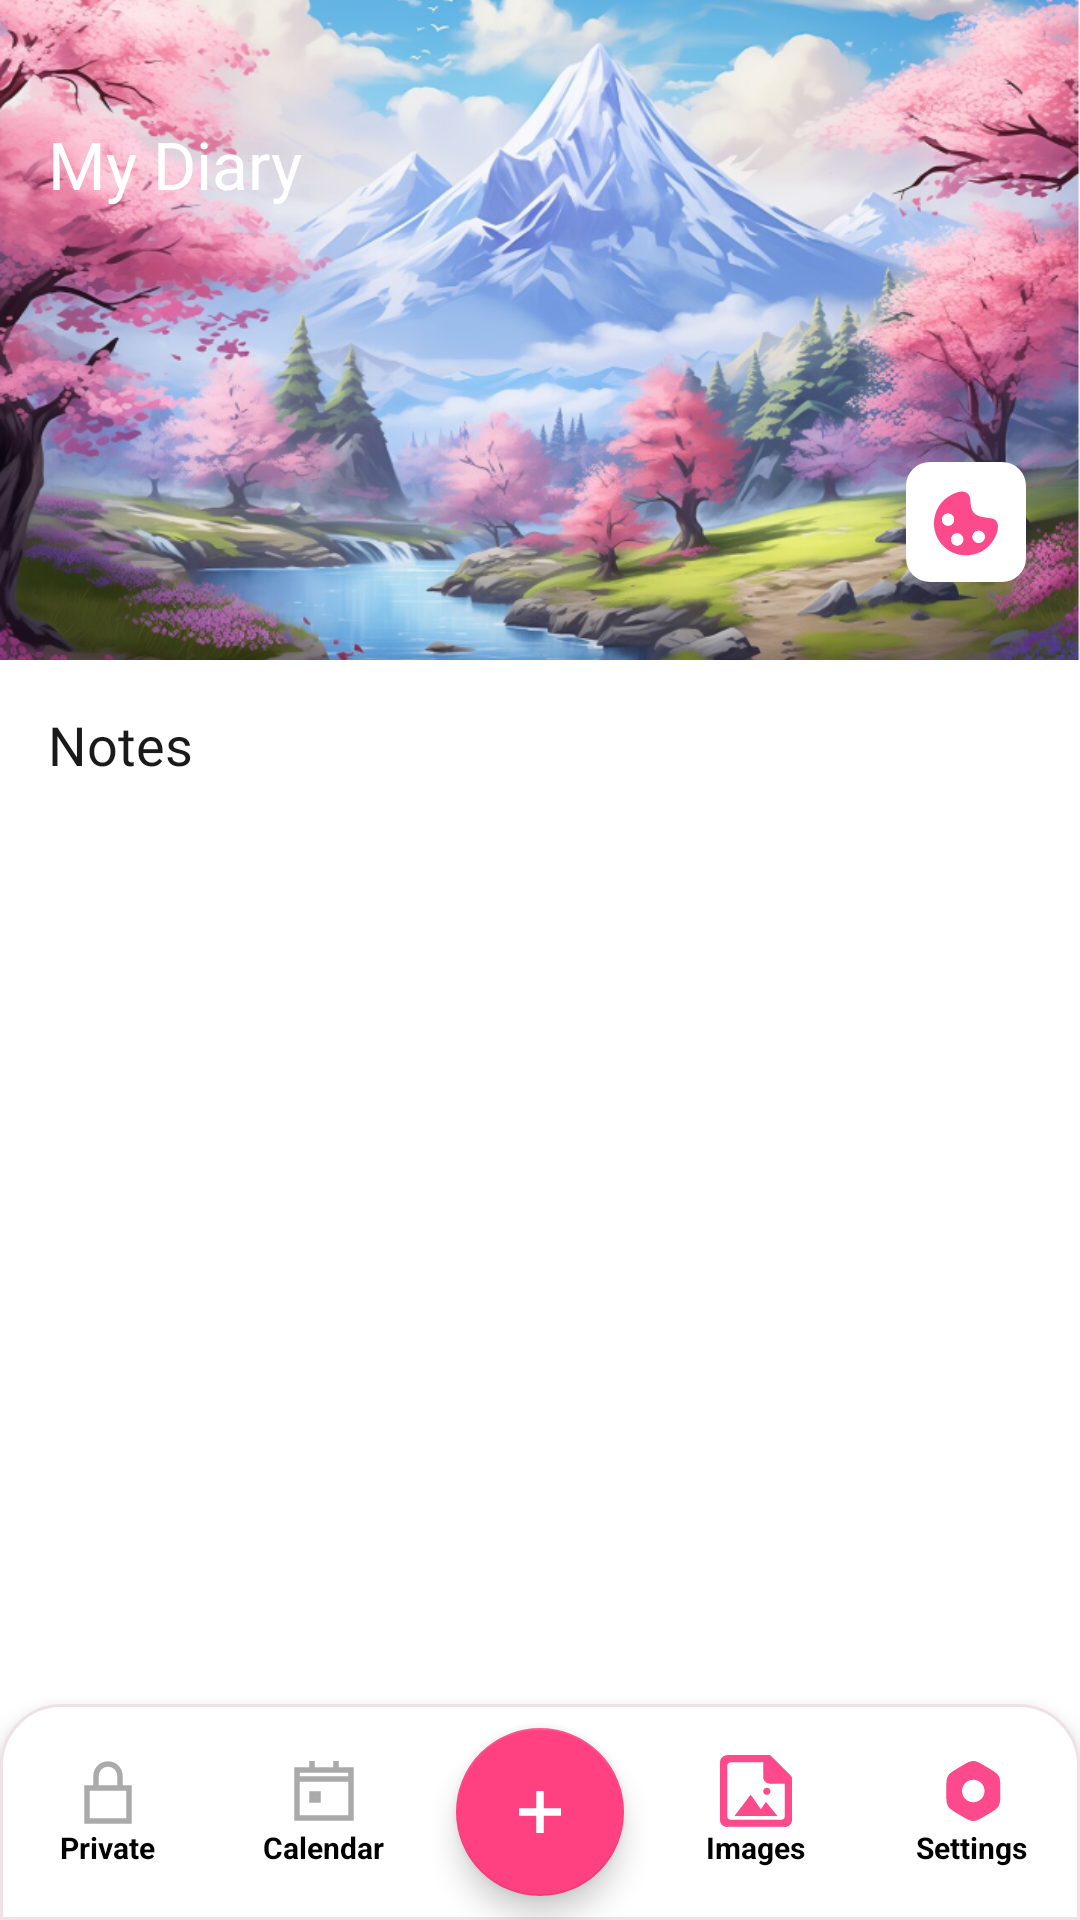

Locate icon controls on the screen. Image size 1080px×1920px, boxes as (left=x1, top=y1, right=x2, bottom=y2).
add: (left=456, top=1728, right=624, bottom=1896)
lock: (left=84, top=1761, right=132, bottom=1824)
